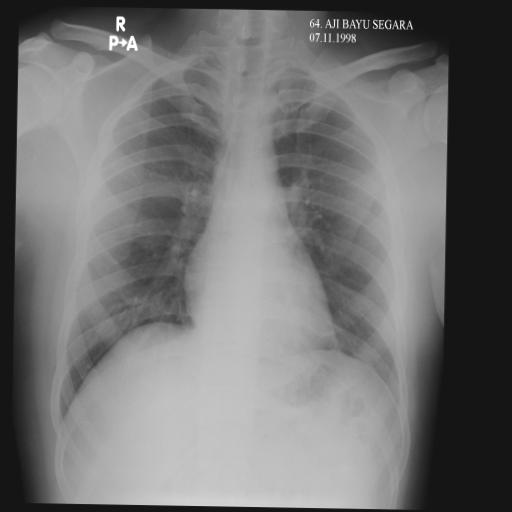normal: (44, 16, 413, 449)
